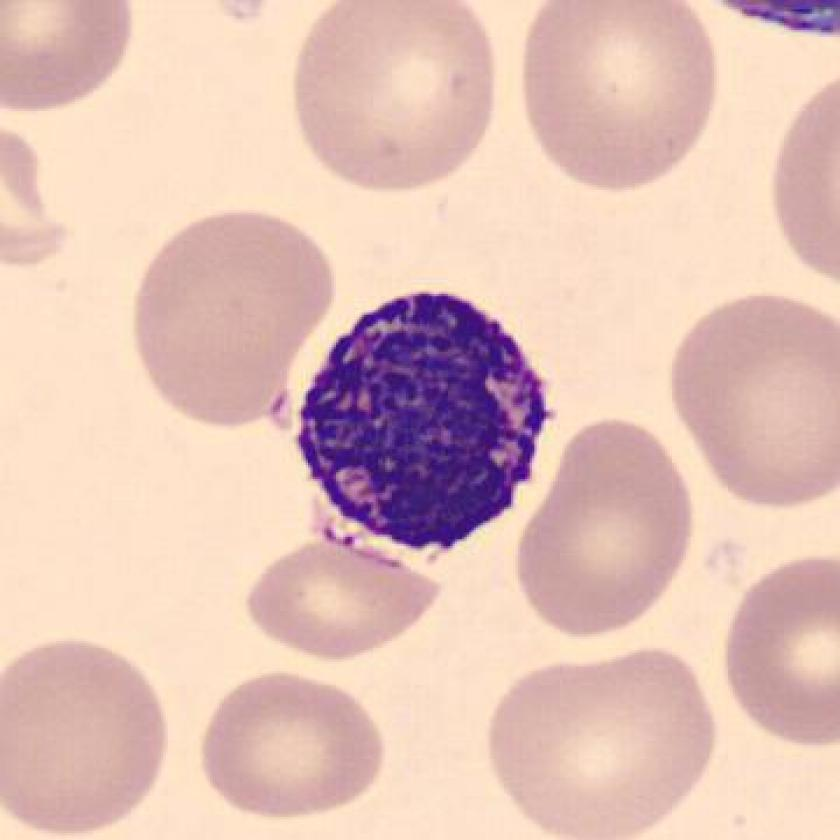basophil: (300, 286, 556, 566)
